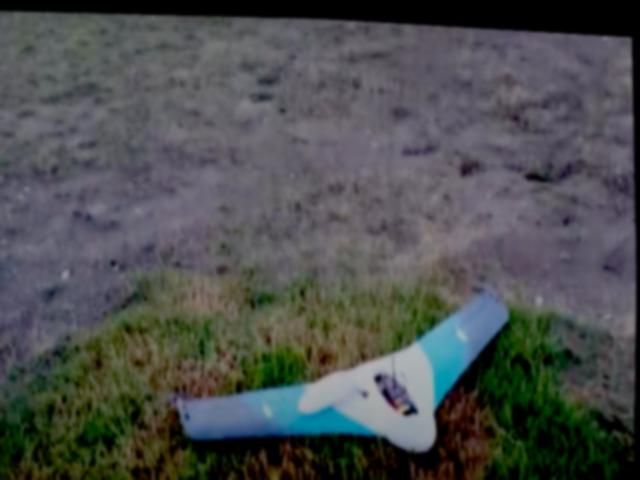iha: (160, 267, 512, 462)
